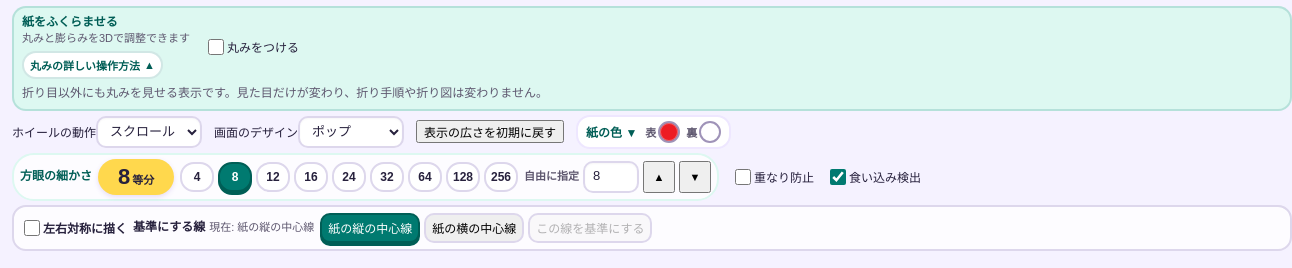
左右対称に描く(CPE-010) › 紙の横の中心線へ切り替え、現在表示と端末設定を同時に更新する
The image size is (1292, 268).
Click the button "紙の横の中心線": [474, 228] box left=424, top=213, right=524, bottom=243
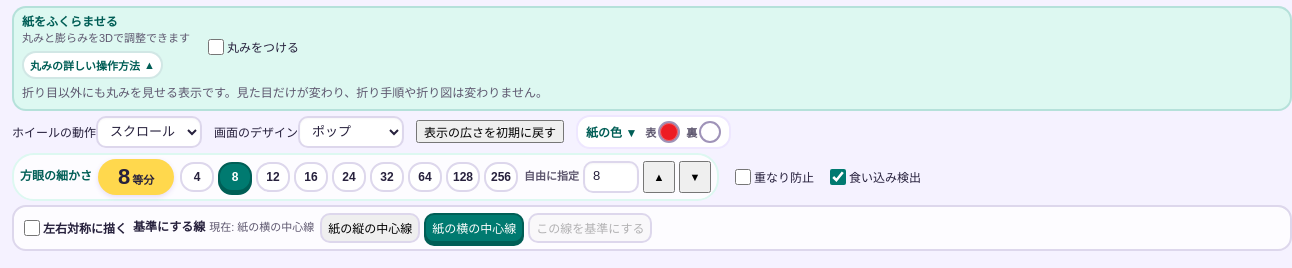
Result: the text "現在: 紙の横の中心線" is shown at left=209, top=220, right=314, bottom=236
